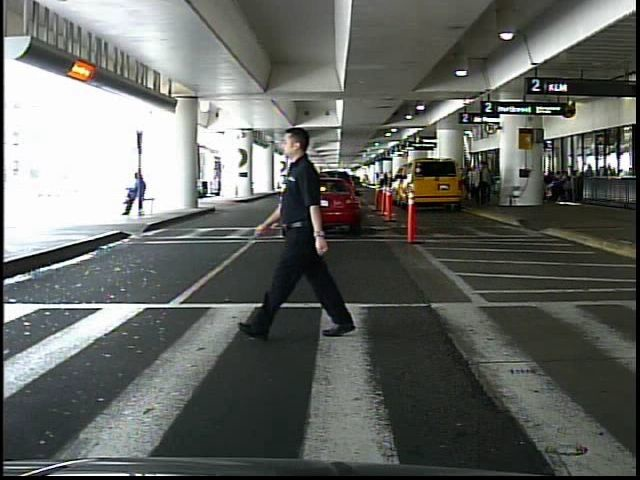person: (258, 122, 360, 343), (474, 162, 491, 208)
